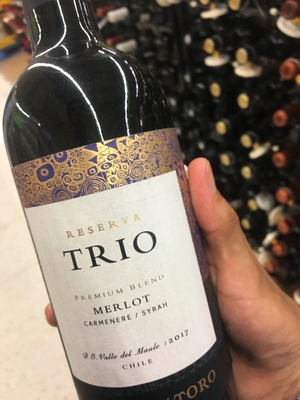trio merlot: (10, 20, 230, 390)
